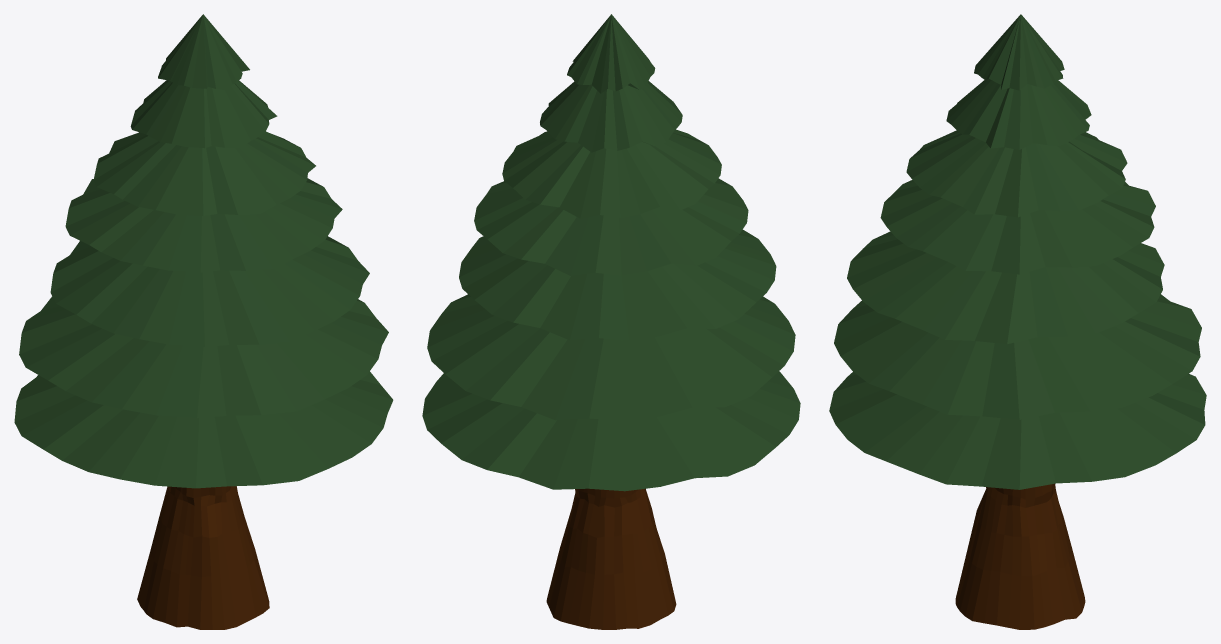
The model's file is MayaTree.fbx.
3 renders of one model, left to right at view 1: azimuth 30°, elevation 25°; view 2: azimuth 150°, elevation 25°; view 3: azimuth 270°, elevation 25°, orthographic.
Visible parts, largest first — view 1: MayaTree; view 2: MayaTree; view 3: MayaTree.
Part boxes in pixels (x1=…): MayaTree: x1=14, y1=14, x2=393, y2=629; MayaTree: x1=422, y1=14, x2=800, y2=629; MayaTree: x1=829, y1=14, x2=1206, y2=629.
Size of the model in its own units: 5.49 by 9.46 by 5.48.
Materials: 1 (1 with a texture image).
